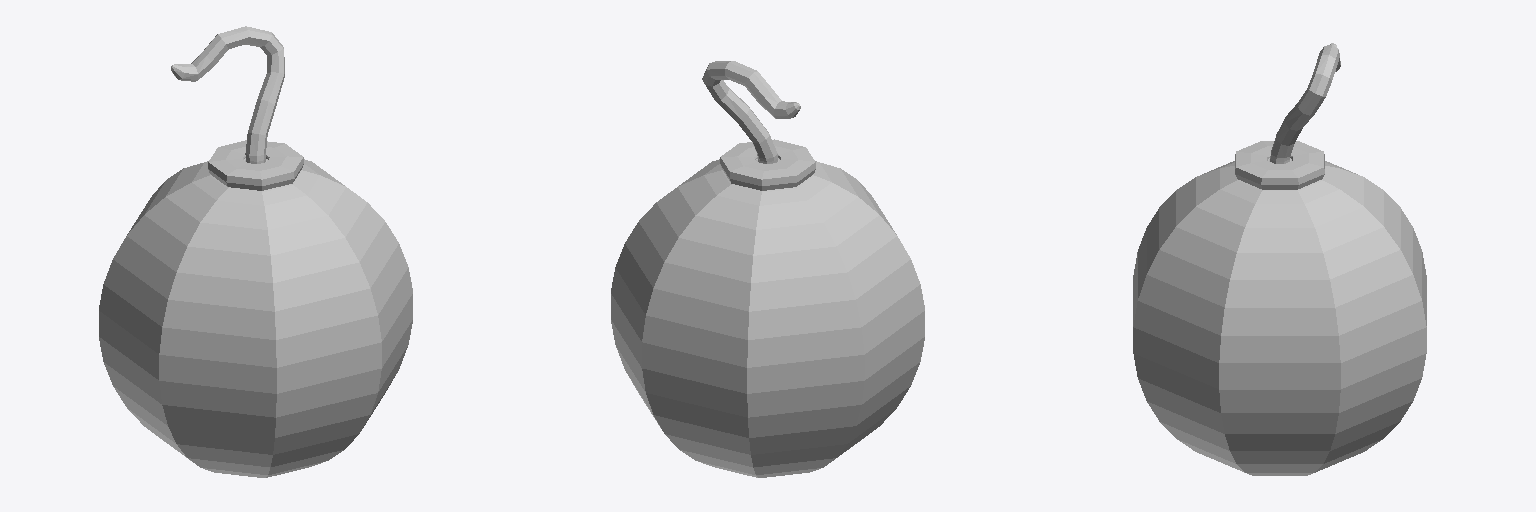
The model's file is Bomb(1).obj.
The picture shows the model from 3 angles: view 1: azimuth 30°, elevation 25°; view 2: azimuth 150°, elevation 25°; view 3: azimuth 270°, elevation 25°; orthographic projection.
Visible parts, largest first — view 1: Bomb; view 2: Bomb; view 3: Bomb.
Boxes of the visible parts, box(x1,y1,x2,y2) form: Bomb: box(99, 26, 412, 477); Bomb: box(611, 61, 924, 477); Bomb: box(1133, 43, 1426, 475).
Size of the model in its own units: 0.6614 by 1.04 by 0.6614.